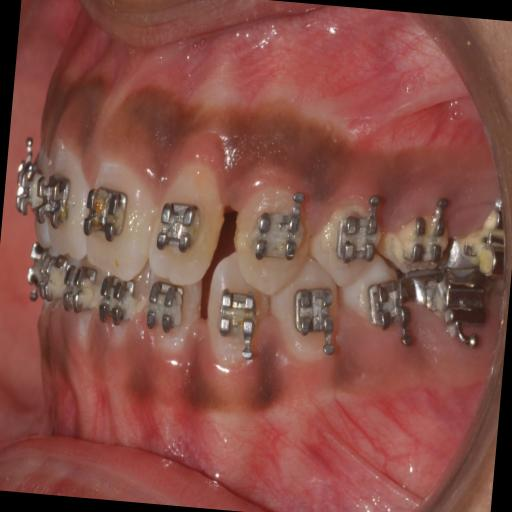correct_brace: (308, 184, 388, 292), (250, 184, 310, 269), (148, 191, 208, 261), (78, 180, 134, 252)
incorrect_brace: (140, 142, 230, 296), (333, 189, 385, 271)
